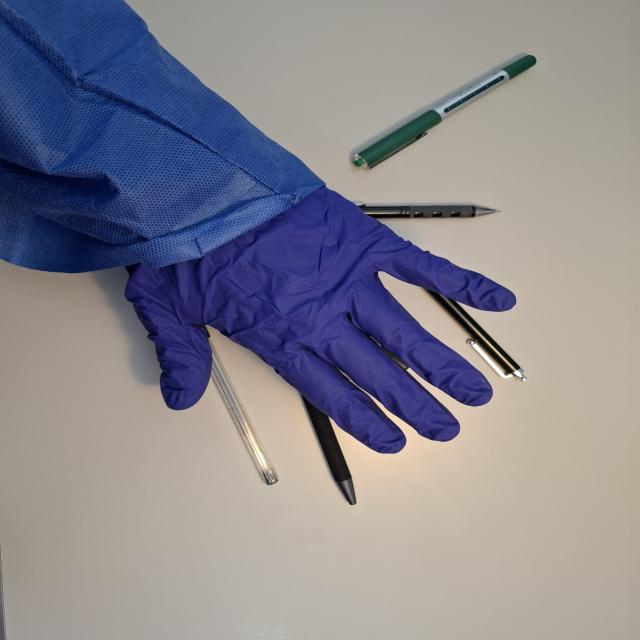glove_on: (116, 176, 520, 455)
